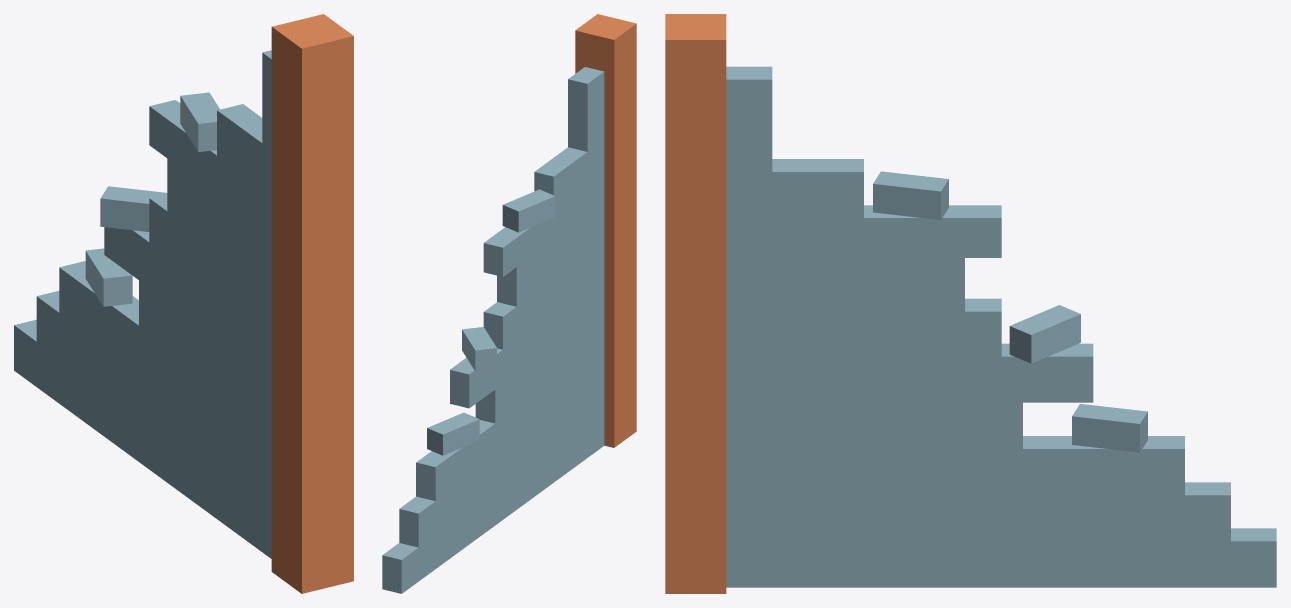
Rendered from wallBroken.dae.
The picture shows the model from 3 angles, left to right: view 1: azimuth 30°, elevation 25°; view 2: azimuth 150°, elevation 25°; view 3: azimuth 270°, elevation 25°; orthographic projection. The views are drawn at different scales.
Visible parts, largest first — view 1: wallBroken; view 2: wallBroken; view 3: wallBroken.
Part boxes in pixels (<box>): wallBroken: <box>14,14,353,593</box>; wallBroken: <box>382,14,636,593</box>; wallBroken: <box>665,14,1276,593</box>.
Size of the model in its own units: 0.1168 by 1 by 1.
